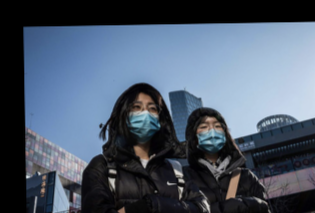with_mask: (124, 98, 161, 145), (195, 118, 227, 155)
